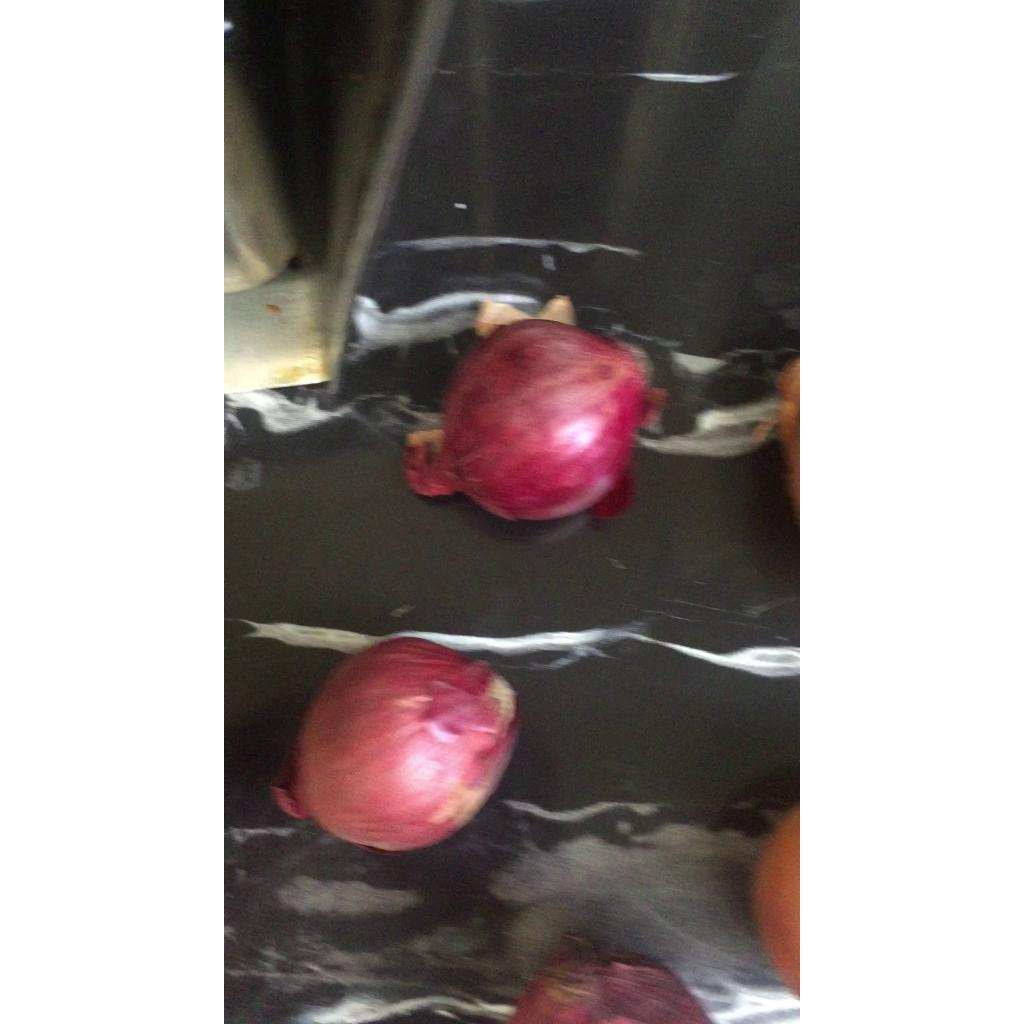Onion: (276, 639, 518, 852), (438, 318, 654, 520), (510, 938, 712, 1024)
